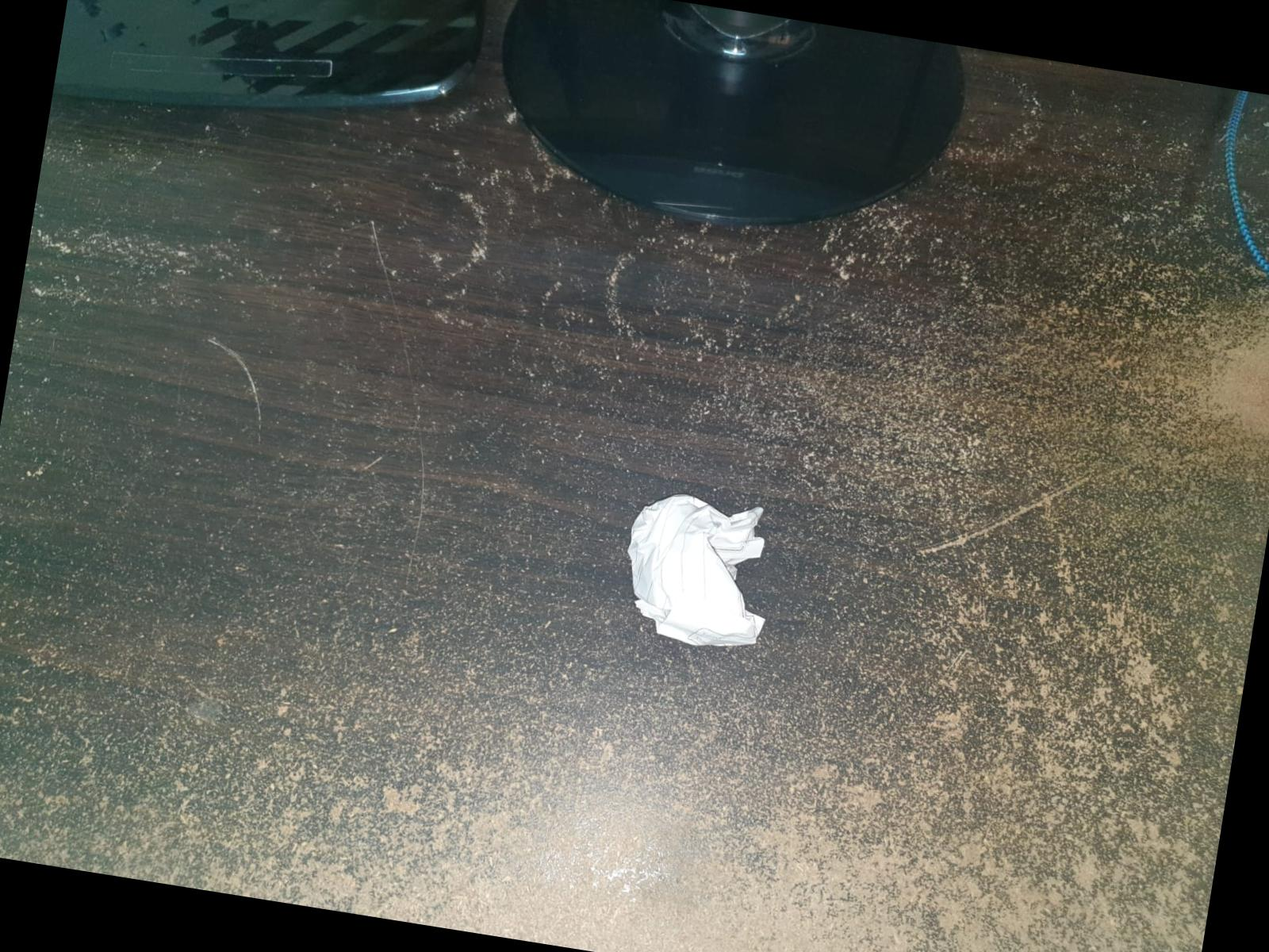Kertas: (628, 490, 773, 647)
